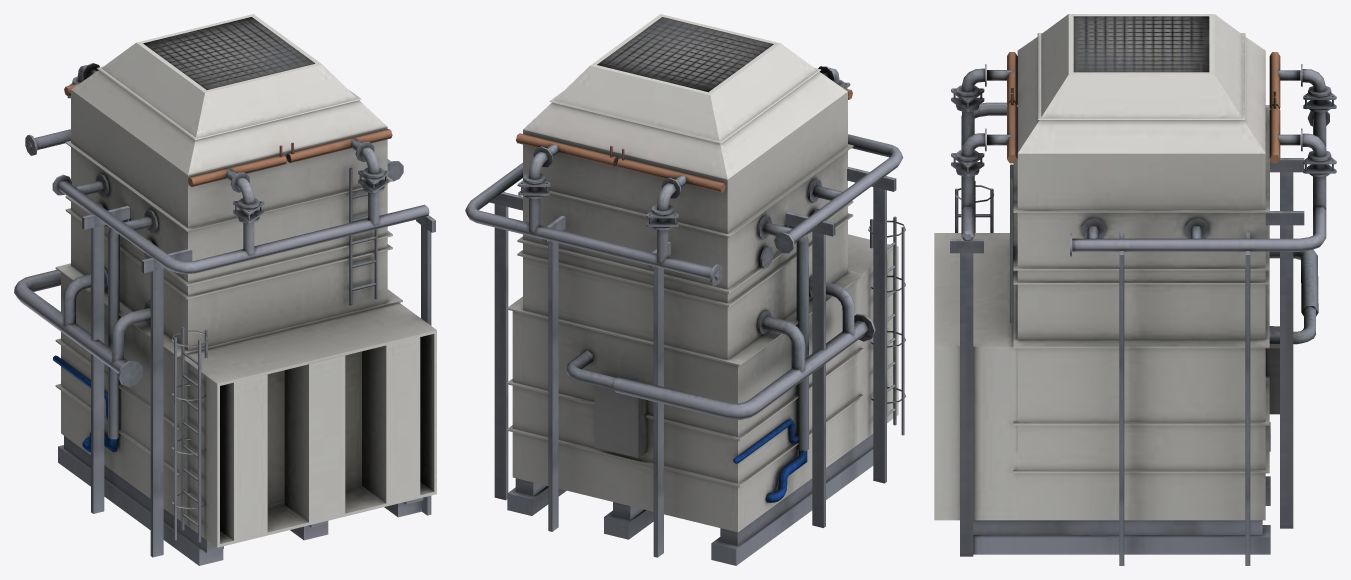
Rendered from heatPump.gltf.
3 renders of one model, left to right at view 1: azimuth 30°, elevation 25°; view 2: azimuth 150°, elevation 25°; view 3: azimuth 270°, elevation 25°, orthographic. The views are drawn at different scales.
Visible parts, largest first — view 1: heatPumpET; view 2: heatPumpET; view 3: heatPumpET.
Part boxes in pixels (x1=…): heatPumpET: x1=14, y1=14, x2=436, y2=565; heatPumpET: x1=465, y1=14, x2=905, y2=565; heatPumpET: x1=934, y1=14, x2=1336, y2=565.
Size of the model in its own units: 24.8 by 34.83 by 28.09.
Materials: 1 (1 with a texture image).
